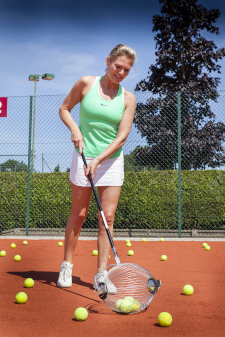tennis_ball: (157, 311, 173, 327), (15, 291, 29, 306), (73, 306, 88, 320), (22, 277, 35, 288), (182, 284, 194, 295), (159, 252, 167, 262), (13, 255, 22, 262), (126, 249, 134, 256), (92, 249, 99, 257), (57, 241, 63, 248), (9, 242, 16, 248), (141, 237, 147, 243), (126, 241, 132, 247), (22, 240, 28, 246), (1, 251, 6, 257), (160, 237, 163, 241)
